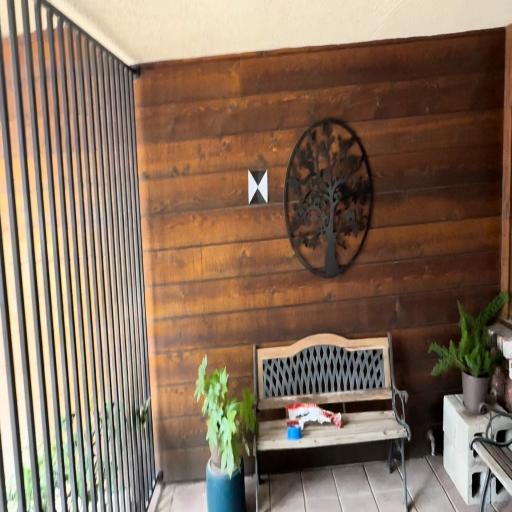target: (248, 171, 267, 204)
